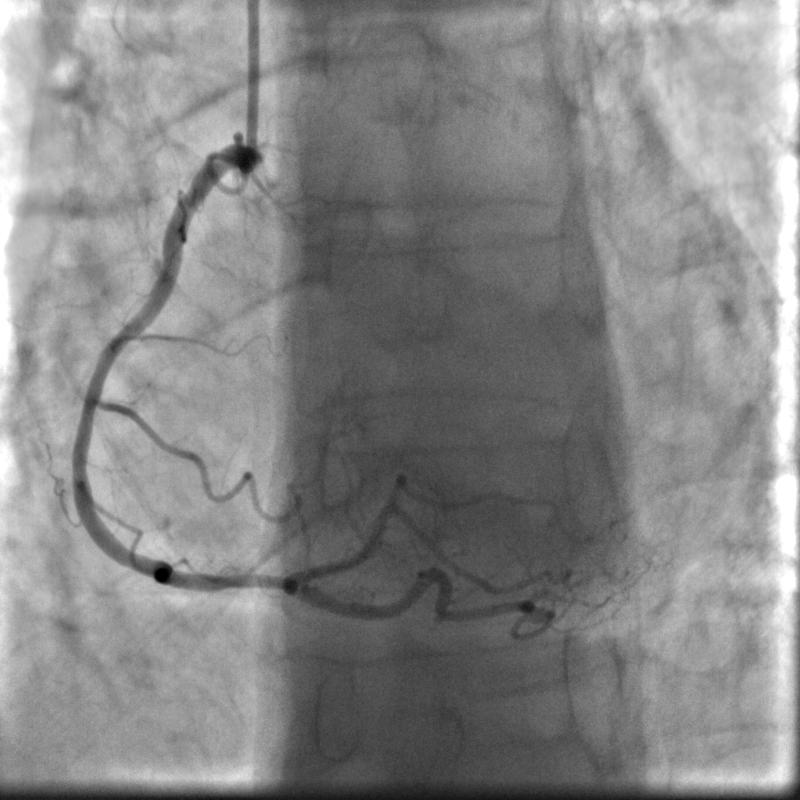Stenosis: (211, 560, 282, 606)
